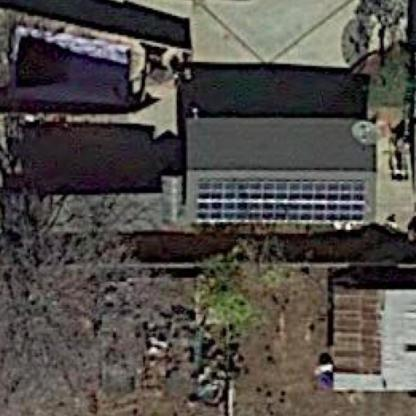solar_panel: (188, 172, 368, 233)
